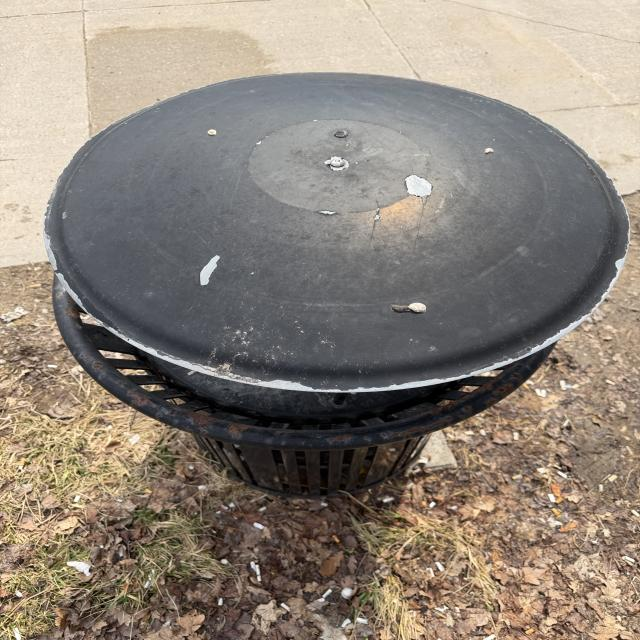Dustbin: (42, 72, 628, 503)
